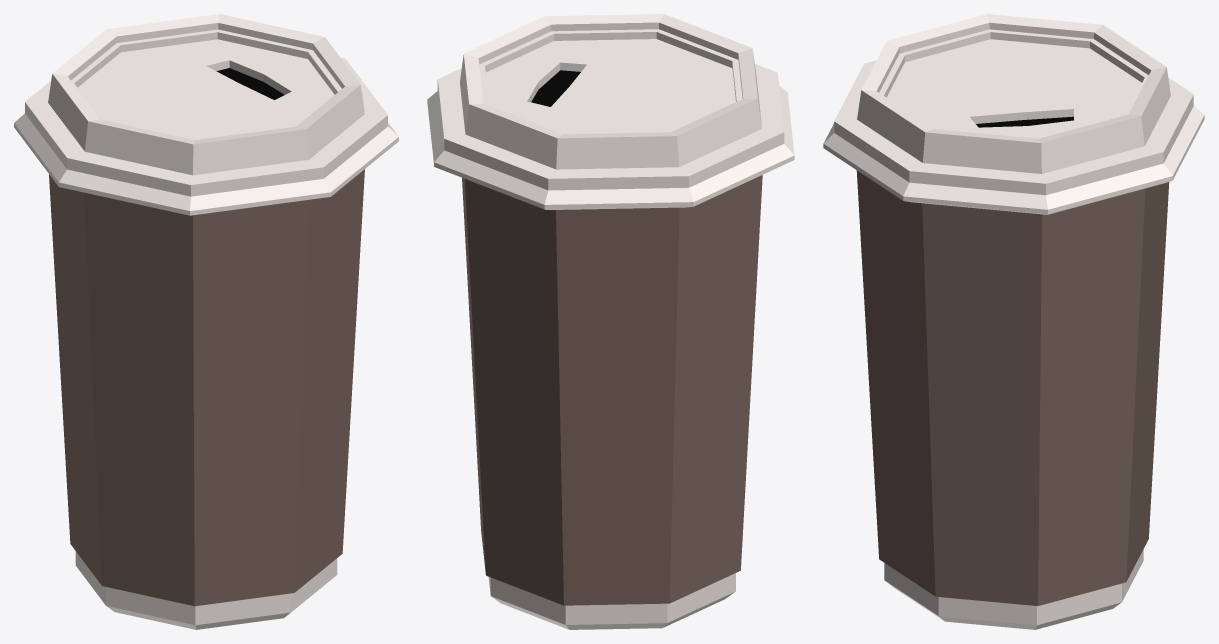
Rendered from CoffeeCup_Large.fbx.
3 views of the same model, side by side, from view 1: azimuth 30°, elevation 25°; view 2: azimuth 150°, elevation 25°; view 3: azimuth 270°, elevation 25° (orthographic).
Visible parts, largest first — view 1: CoffeeCup_Large; view 2: CoffeeCup_Large; view 3: CoffeeCup_Large.
Boxes of the visible parts, x1,y1,x2,y2 form: CoffeeCup_Large: [14, 14, 398, 629]; CoffeeCup_Large: [427, 14, 794, 629]; CoffeeCup_Large: [823, 14, 1204, 629].
Bounding box in the file's own units: 48.17 × 69.9 × 48.17.
